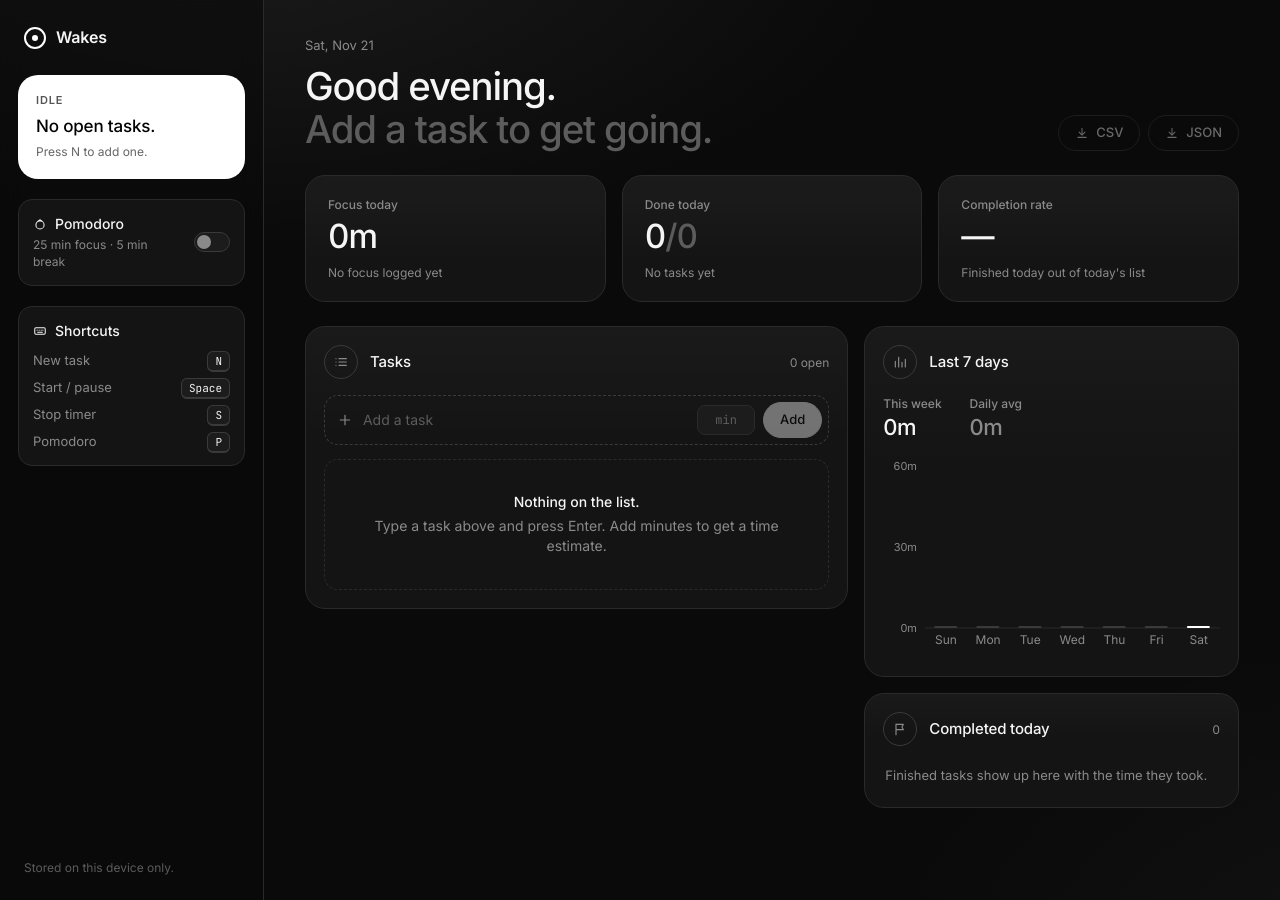
Test: App › edits a task inline; Escape cancels
Type "Draft" into the field named "New task title" at (525, 420), box [361,402,689,438]
Then press Enter
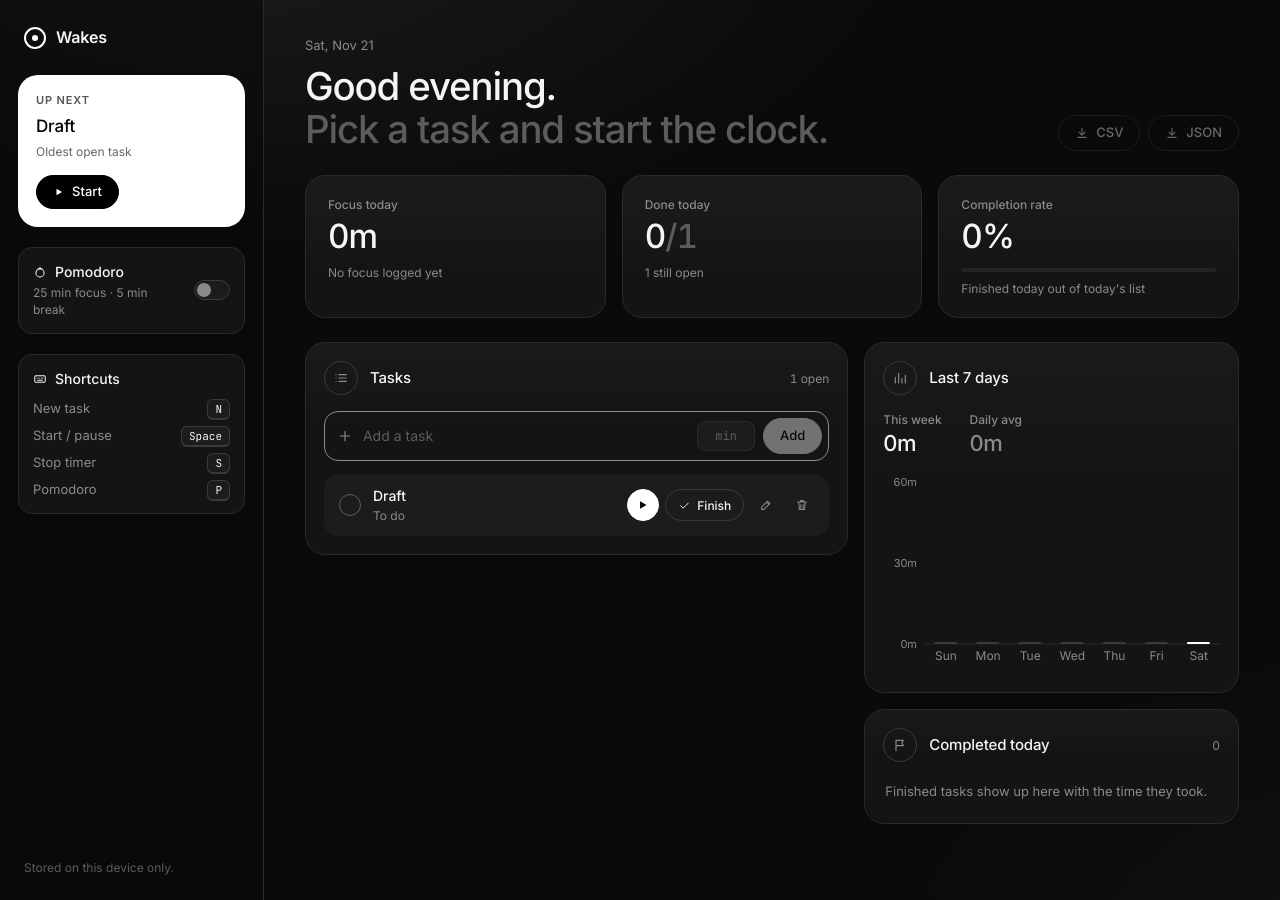
Click the button named "Edit \"Draft\"" at (766, 505), box [750,489,782,521]
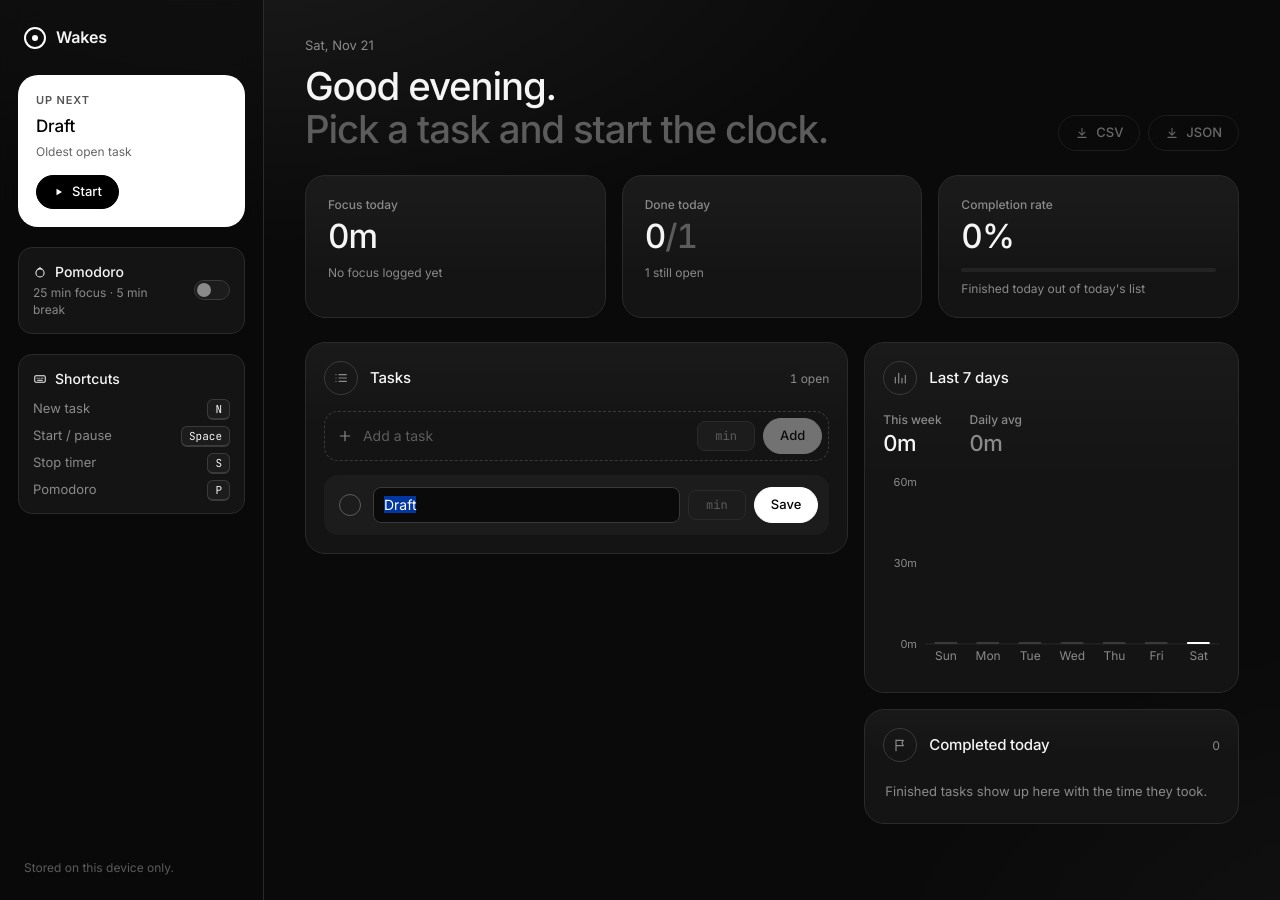
Type " nope" into the field named "Task title" at (526, 505), box [373,487,680,523]
Then press Escape
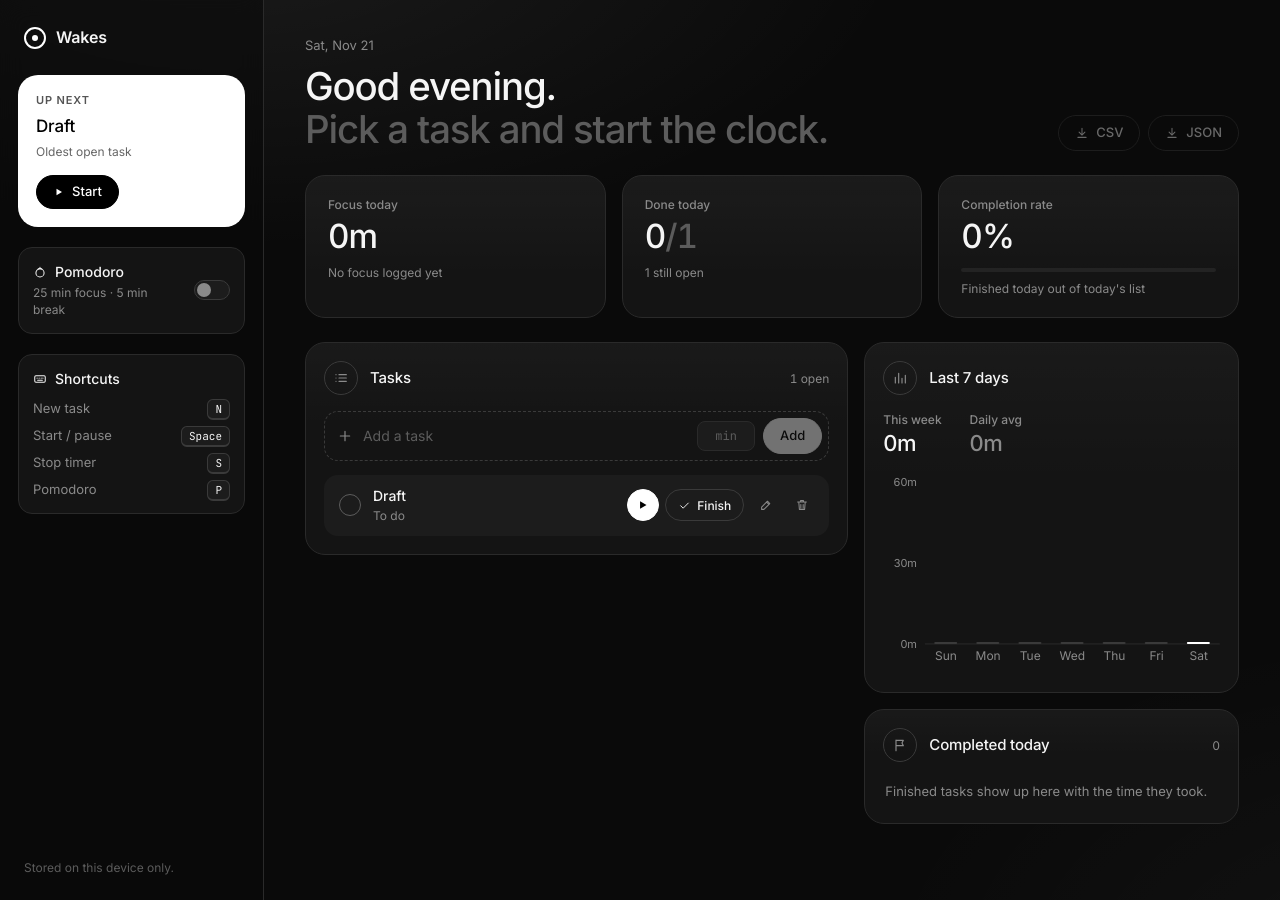
Result: the text "Draft" in the row of "60m" is shown at [373,487,406,504]
Click the button named "Edit \"Draft\"" at (766, 505), box [750,489,782,521]
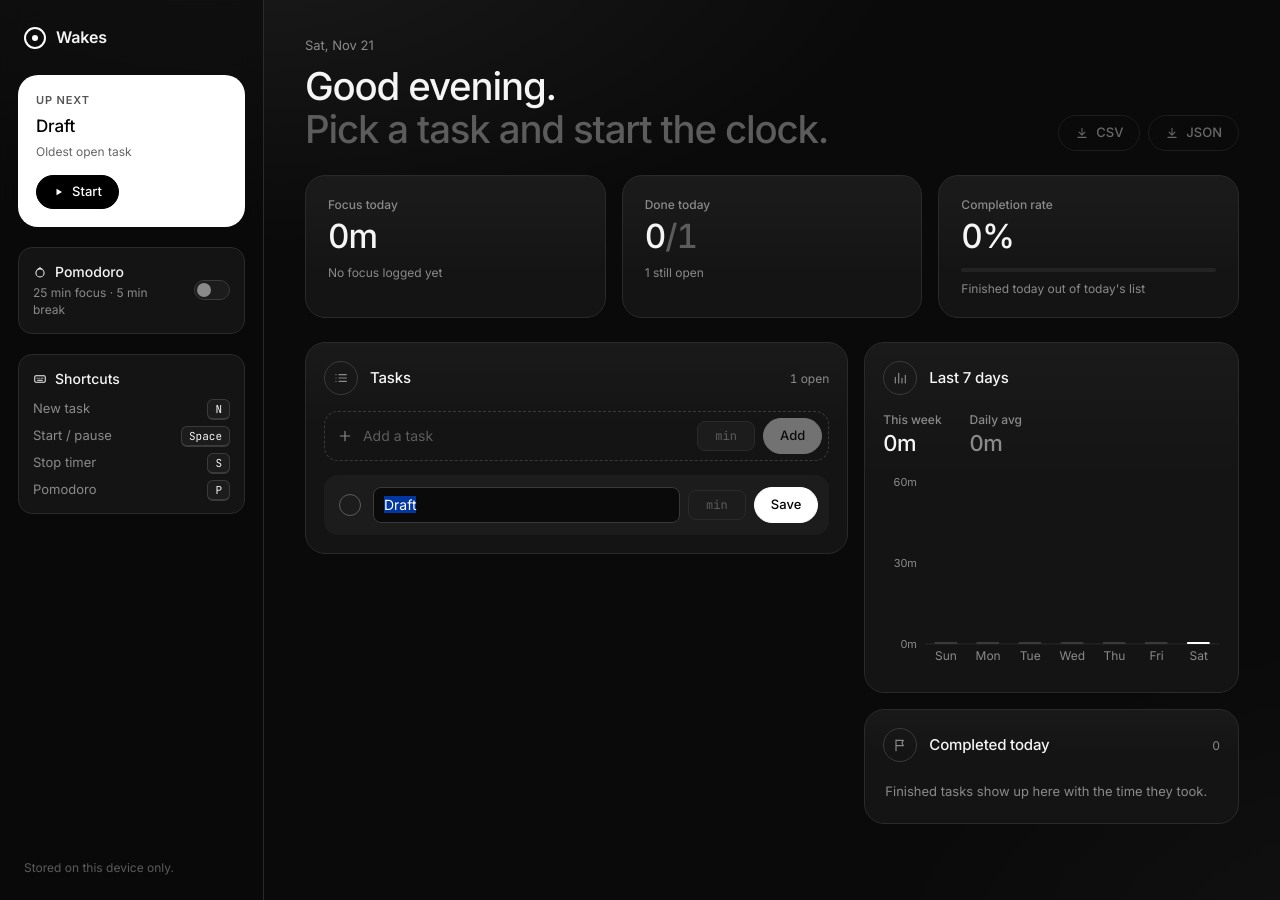
Replace the text in the field named "Task title" with "Final" at (526, 505), box [373,487,680,523]
Then press Enter
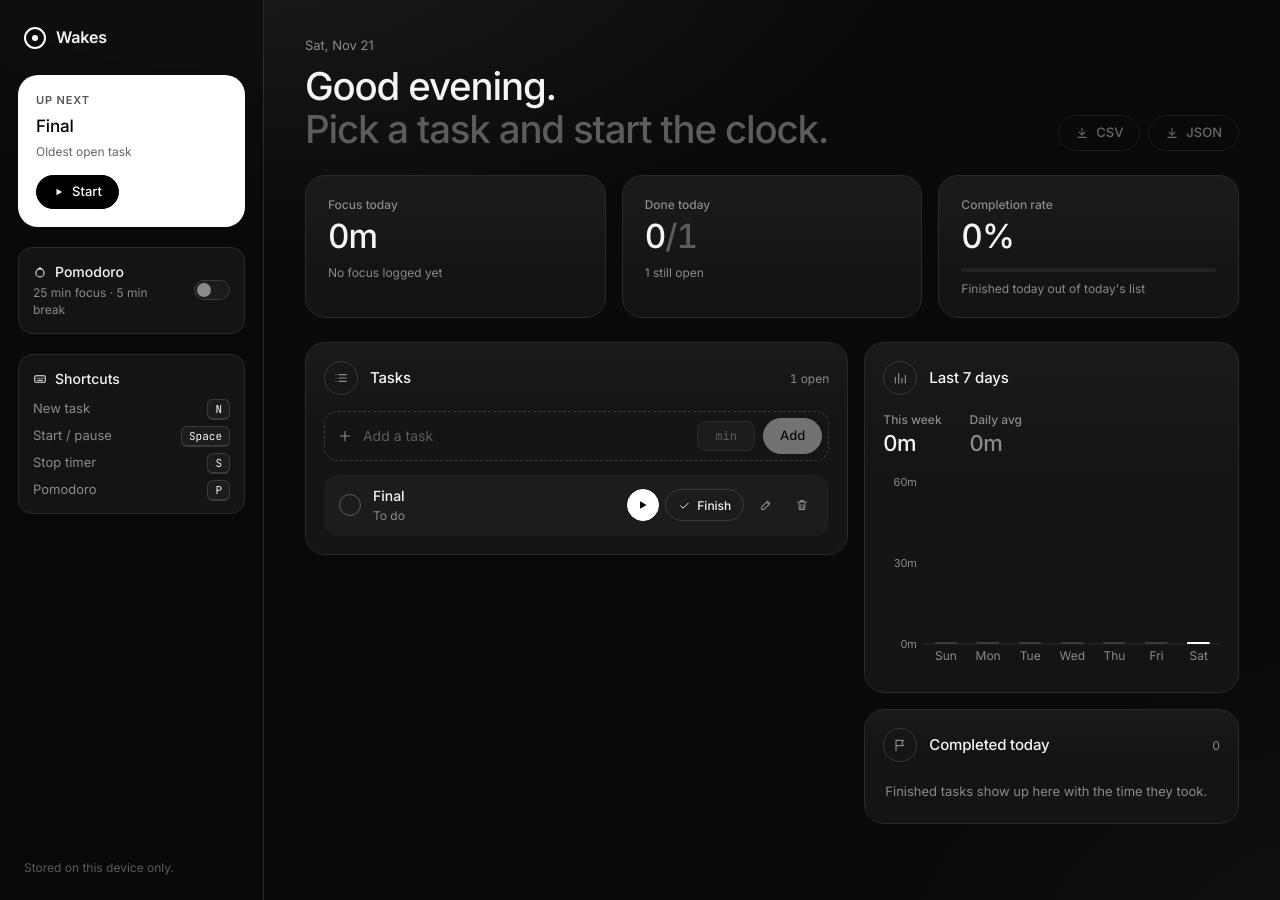
Result: the text "Final" in the row of "60m" is shown at [373,487,405,504]
